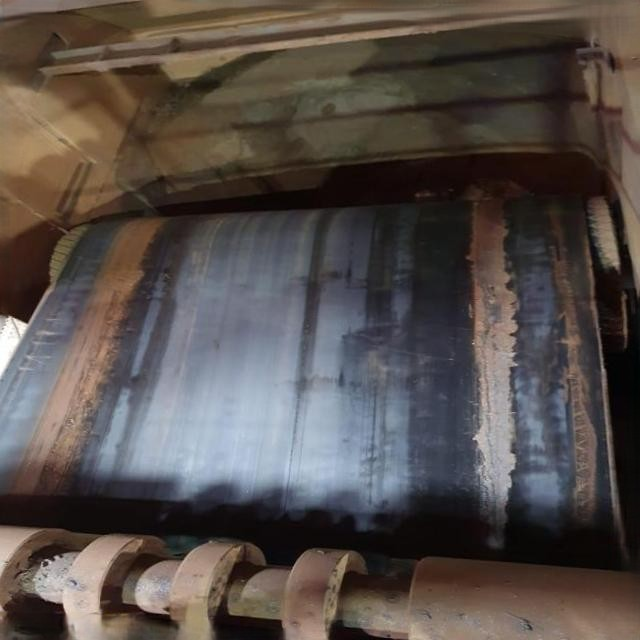Wear: (11, 214, 190, 506), (449, 192, 522, 544), (534, 191, 606, 538)
